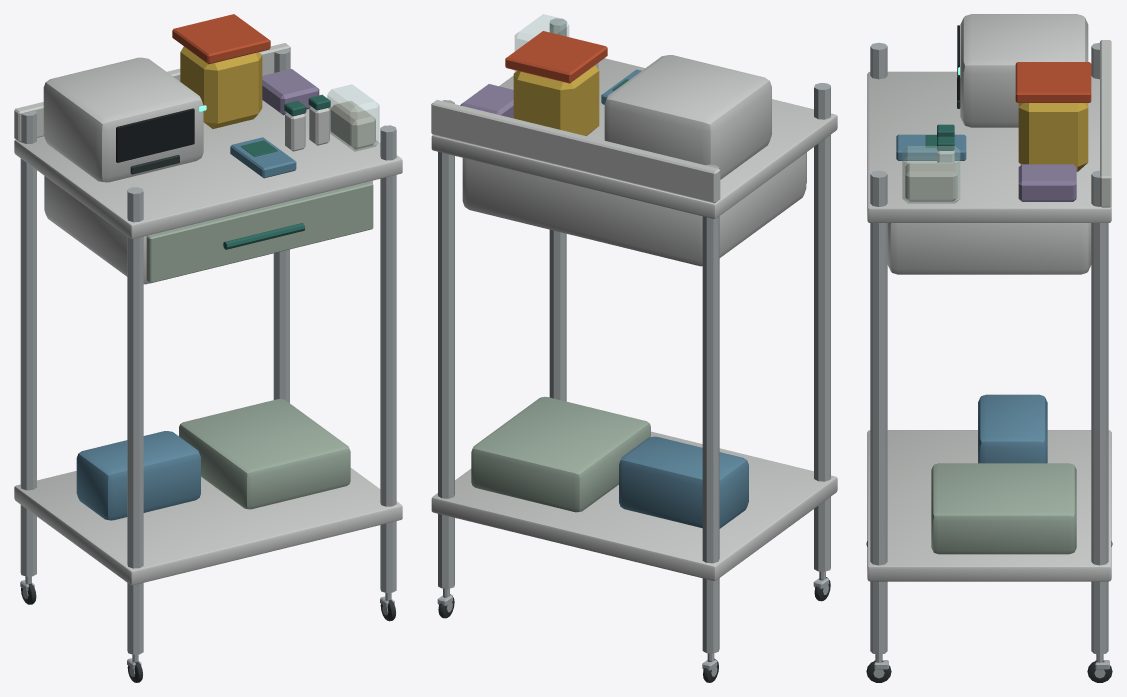
File: glucometer-station.glb
The picture shows the model from 3 angles, left to right: view 1: azimuth 30°, elevation 25°; view 2: azimuth 150°, elevation 25°; view 3: azimuth 270°, elevation 25°; orthographic projection. The views are drawn at different scales.
Parts seen in each view (by area): view 1: glucometer-station; view 2: glucometer-station; view 3: glucometer-station.
Boxes of the visible parts, x1,y1,x2,y2 form: glucometer-station: (14, 14, 402, 682); glucometer-station: (431, 14, 837, 682); glucometer-station: (866, 14, 1112, 682).
Bounding box in the file's own units: 0.56 × 1.07 × 0.4232.
